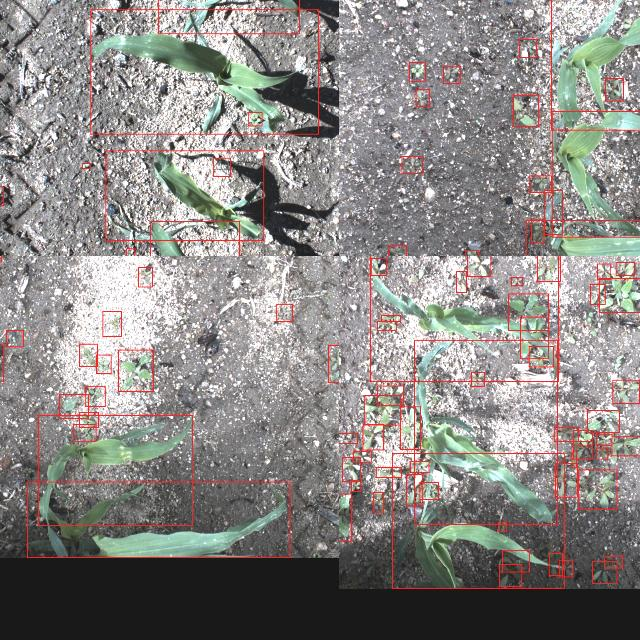crop: (91, 8, 319, 134), (414, 338, 558, 524), (369, 256, 558, 381), (392, 454, 564, 588), (27, 481, 290, 557), (38, 414, 192, 526), (106, 150, 264, 240), (551, 0, 640, 130), (551, 111, 640, 237), (158, 0, 299, 33), (526, 220, 640, 256), (150, 221, 239, 256)
weed: (579, 469, 617, 509), (508, 292, 548, 330), (118, 349, 154, 391), (598, 278, 640, 312), (520, 316, 548, 358), (365, 395, 401, 425), (400, 406, 420, 448), (545, 190, 563, 234), (514, 94, 538, 126), (555, 463, 577, 497), (587, 410, 619, 432), (60, 394, 88, 418), (612, 379, 640, 403), (502, 550, 530, 572), (537, 256, 561, 281), (592, 561, 618, 583), (339, 493, 351, 540), (611, 436, 640, 455), (362, 423, 383, 449), (498, 564, 522, 586), (377, 385, 403, 405), (528, 346, 554, 366), (406, 474, 422, 506), (102, 310, 121, 336), (342, 457, 361, 481), (467, 256, 490, 275), (85, 386, 105, 406), (606, 78, 624, 100), (80, 344, 98, 366), (329, 344, 339, 382), (530, 175, 552, 192), (74, 424, 96, 441), (554, 427, 578, 441), (574, 441, 592, 459), (402, 156, 422, 172), (96, 354, 112, 374), (590, 283, 606, 303), (549, 553, 563, 575), (213, 158, 230, 176), (444, 65, 461, 83), (409, 61, 425, 80), (419, 482, 438, 498), (520, 38, 536, 56), (6, 330, 24, 346), (574, 429, 592, 445), (138, 266, 152, 286), (532, 220, 544, 242), (277, 304, 293, 320), (80, 412, 98, 426), (376, 467, 400, 477), (416, 88, 430, 105), (372, 258, 386, 274), (456, 270, 466, 292), (605, 556, 623, 568), (616, 262, 634, 274), (373, 492, 383, 512), (388, 245, 406, 256), (353, 451, 371, 462), (248, 111, 262, 125), (560, 560, 572, 576), (409, 462, 428, 472), (378, 320, 397, 330), (339, 433, 357, 443), (598, 264, 610, 278), (472, 372, 484, 386), (596, 434, 612, 444), (596, 448, 608, 458), (382, 315, 401, 321), (512, 276, 522, 286), (465, 249, 478, 256), (352, 480, 361, 490), (498, 521, 507, 531), (125, 248, 134, 256), (572, 450, 576, 468), (82, 162, 90, 168)
